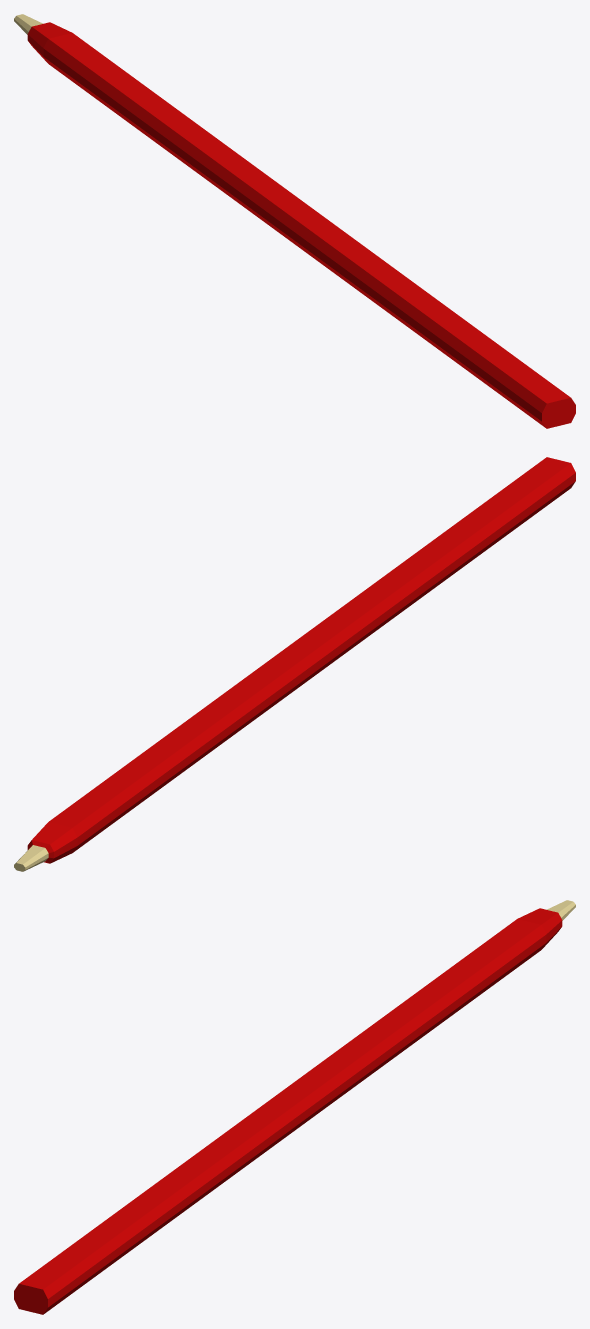
File: Boss_Epsilon_Tail.fbx
3 views of the same model, one above another, from view 1: azimuth 30°, elevation 25°; view 2: azimuth 150°, elevation 25°; view 3: azimuth 330°, elevation 25° (orthographic).
Parts seen in each view (by area): view 1: Boss_Epsilon_Tail; view 2: Boss_Epsilon_Tail; view 3: Boss_Epsilon_Tail.
Boxes of the visible parts, x1,y1,x2,y2 form: Boss_Epsilon_Tail: (14, 14, 575, 428); Boss_Epsilon_Tail: (14, 457, 575, 871); Boss_Epsilon_Tail: (14, 900, 575, 1314).
Bounding box in the file's own units: 79 × 56.14 × 2170.
